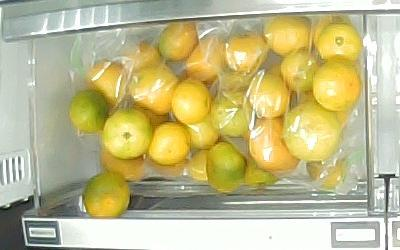tangerine: (102, 108, 152, 159), (82, 172, 129, 217), (206, 141, 246, 193), (149, 121, 190, 166), (172, 79, 211, 124), (69, 90, 107, 132)
tangerine_vinyl: (284, 102, 341, 161), (250, 118, 300, 173), (312, 59, 361, 110), (129, 65, 178, 113), (211, 91, 255, 136), (248, 72, 291, 118), (265, 15, 312, 56), (87, 60, 127, 107), (185, 36, 227, 80), (225, 33, 268, 73), (317, 23, 361, 62), (157, 21, 198, 60), (282, 49, 321, 90), (100, 149, 144, 180), (305, 158, 344, 189), (124, 41, 162, 71), (186, 117, 219, 151)
